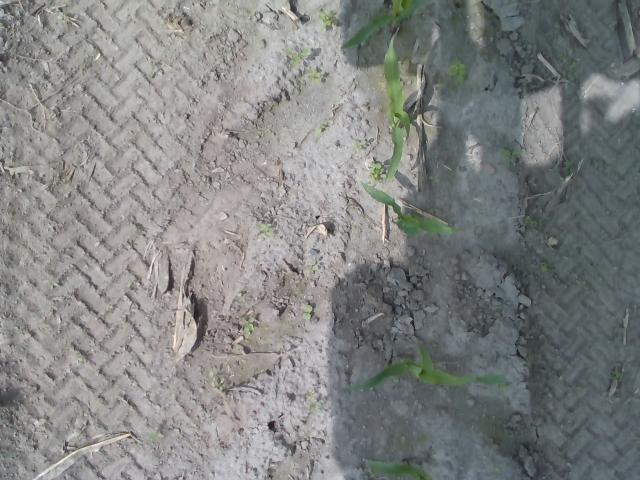Maize: (344, 348, 512, 396), (358, 180, 454, 238), (382, 26, 412, 184), (341, 0, 425, 49), (366, 457, 435, 480)
Weeds: (364, 161, 386, 182), (560, 56, 580, 78), (448, 58, 466, 82), (500, 147, 523, 164), (288, 48, 311, 64), (318, 12, 338, 30), (314, 119, 330, 137), (302, 68, 322, 82), (608, 366, 624, 383), (526, 218, 545, 232), (242, 318, 256, 334), (537, 260, 554, 272), (303, 304, 314, 322), (258, 222, 272, 234), (209, 380, 223, 392), (353, 141, 365, 153), (562, 160, 572, 174), (428, 174, 440, 184), (148, 430, 160, 440), (306, 265, 316, 272)
